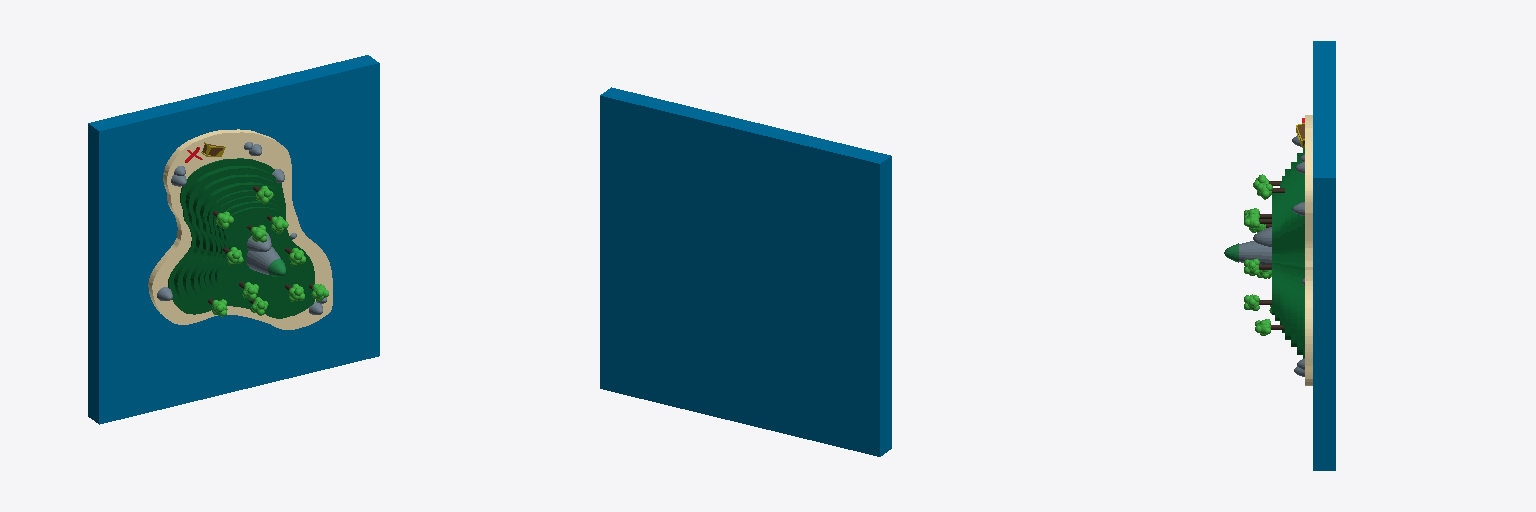
File: tinker.obj
3 renders of one model, left to right at view 1: azimuth 30°, elevation 25°; view 2: azimuth 150°, elevation 25°; view 3: azimuth 270°, elevation 25°, orthographic.
Visible parts, largest first — view 1: obj_0; view 2: obj_0; view 3: obj_0.
Part boxes in pixels (bbox=[...]): obj_0: bbox=[88, 55, 379, 424]; obj_0: bbox=[600, 87, 891, 456]; obj_0: bbox=[1224, 41, 1335, 470].
Size of the model in its own units: 200 by 200 by 69.